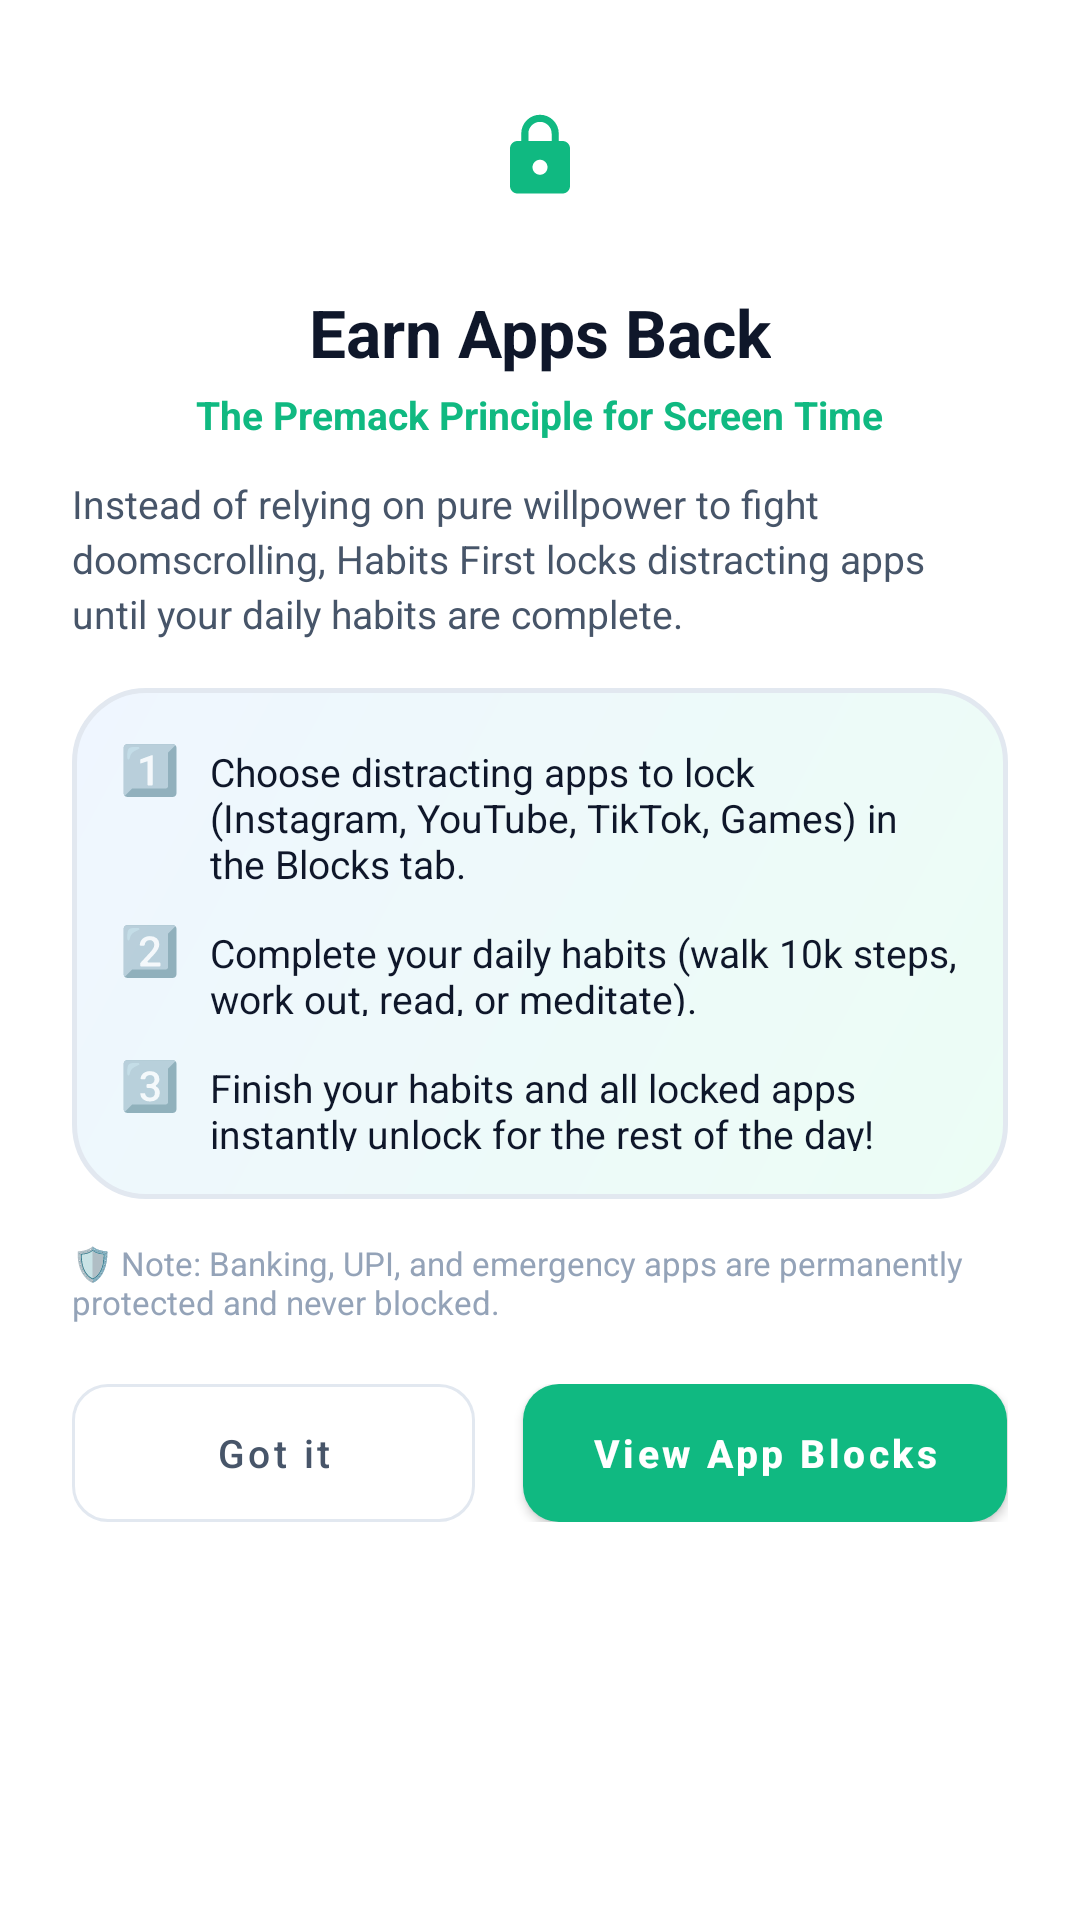

Icon bounding boxes for this 1080px x 1920px phone screenshot, format (x1, y1, x2, y2):
lock: (510, 114, 570, 194)
